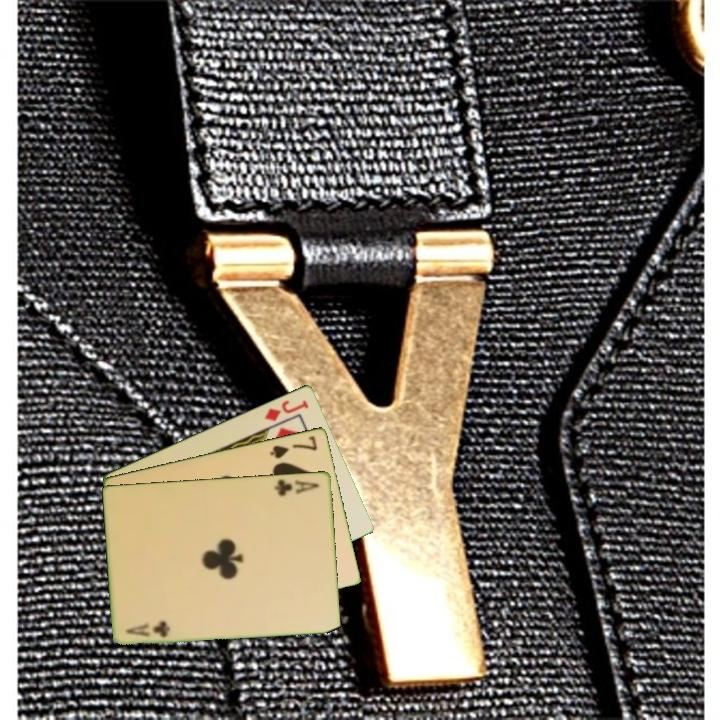7s: (267, 432, 320, 461)
Ac: (271, 475, 322, 499), (122, 617, 173, 640)
Jd: (261, 396, 311, 424)
